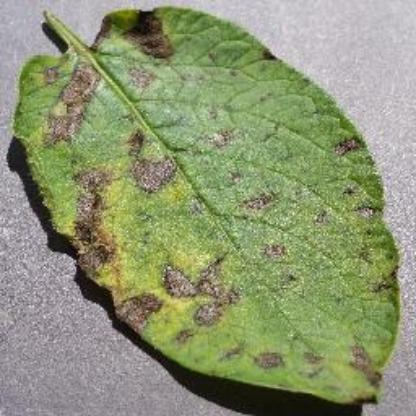Early-Blight: (10, 6, 396, 404)
